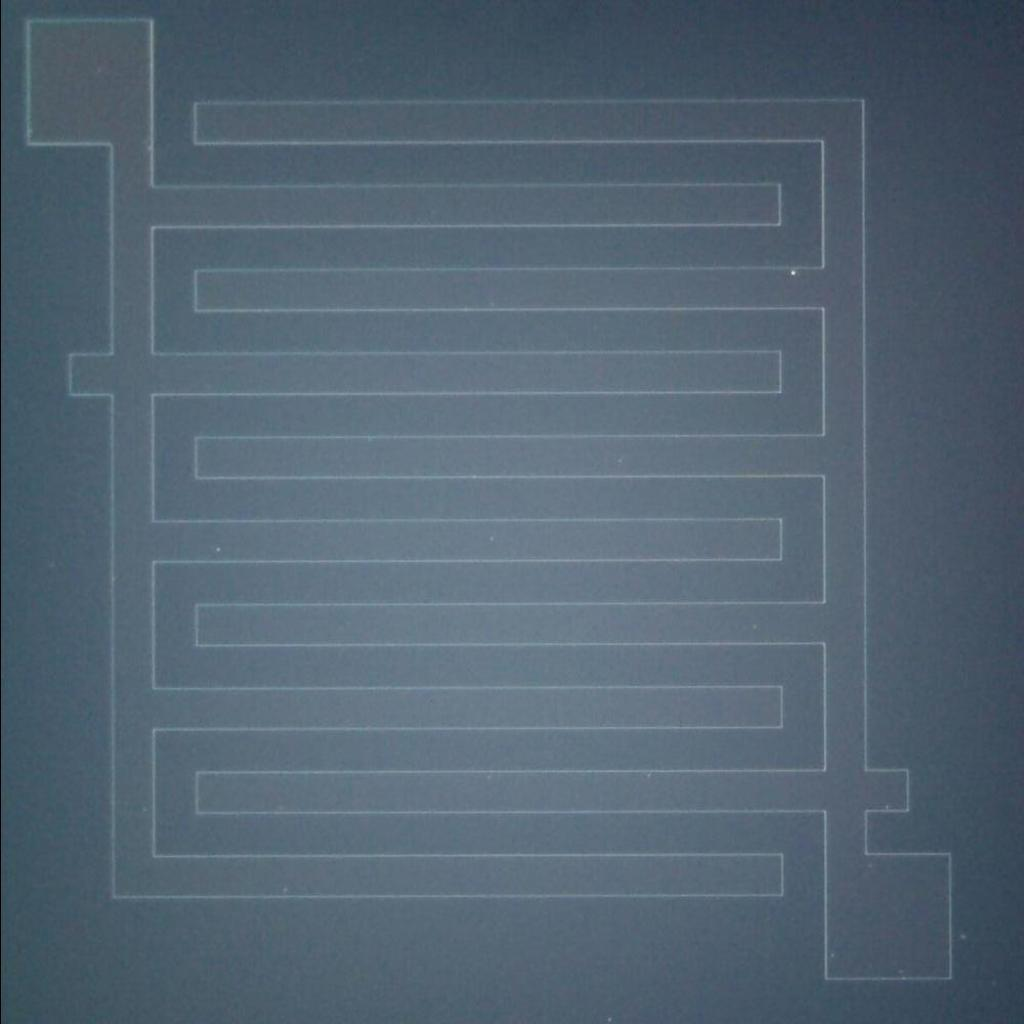budge circuit: (60, 340, 123, 412), (850, 756, 915, 822)
dot: (781, 262, 802, 283)
